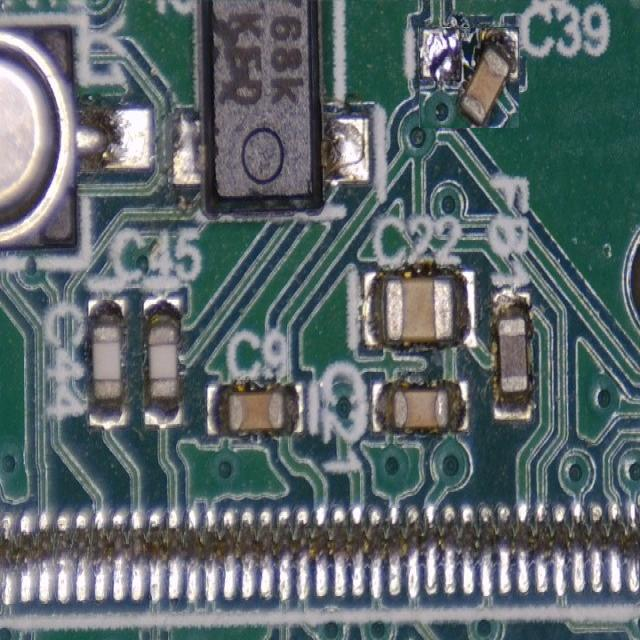Incorrect_installation: (419, 27, 519, 128)
